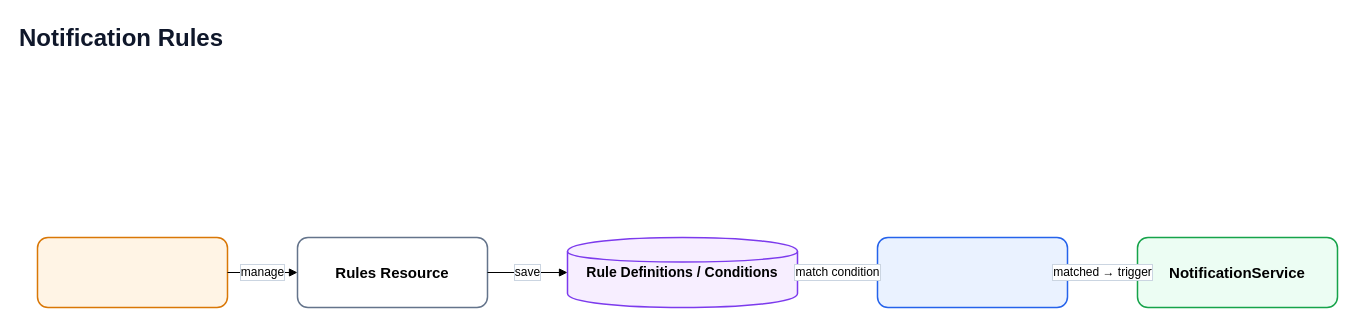
Image size: 1355x325. Some labels were removed from this diagram. Here are the shapes that lost their labels. From the top down, the centre of each, then its label:
At point 132,272: "Rule Administrator".
At point 972,272: "Rule Evaluation".
